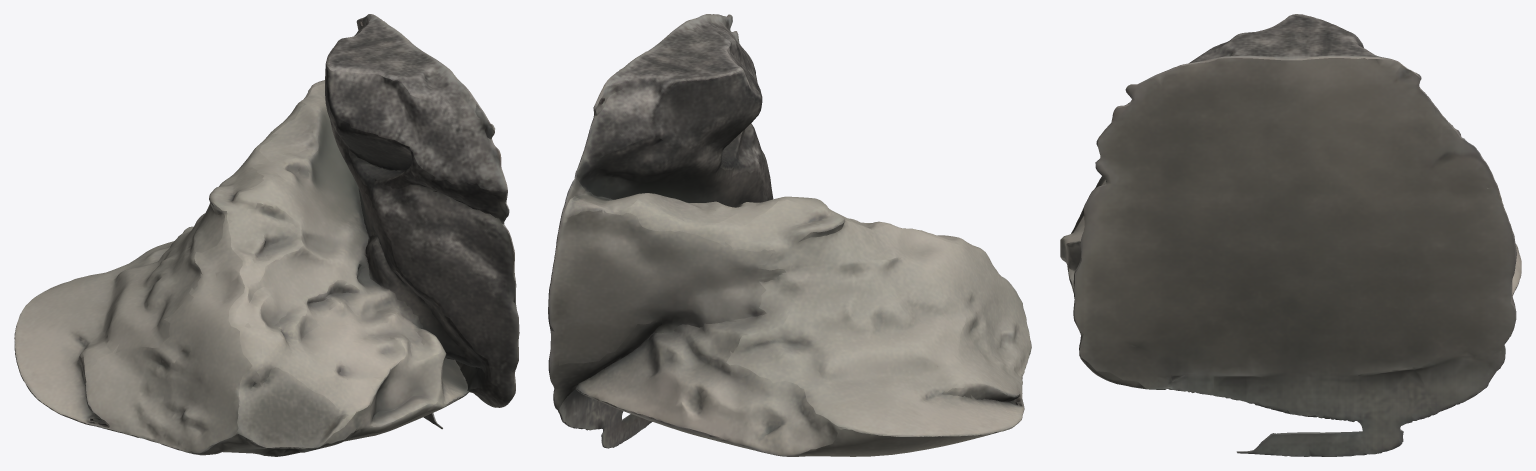
The picture shows the model from 3 angles, left to right: view 1: azimuth 30°, elevation 25°; view 2: azimuth 150°, elevation 25°; view 3: azimuth 270°, elevation 25°; orthographic projection. The views are drawn at different scales.
Parts seen in each view (by area): view 1: world; view 2: world; view 3: world.
Boxes of the visible parts, left/top/right/bottom form: world: left=14, top=14, right=519, bottom=456; world: left=548, top=14, right=1031, bottom=456; world: left=1060, top=14, right=1521, bottom=456.
Bounding box in the file's own units: 0.45 × 0.4311 × 0.4507.
Materials: 1 (1 with a texture image).
